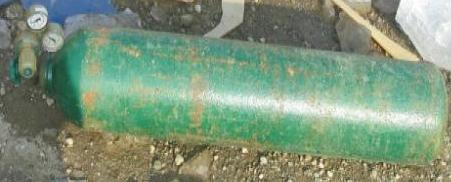cylinder: (1, 0, 451, 182)
